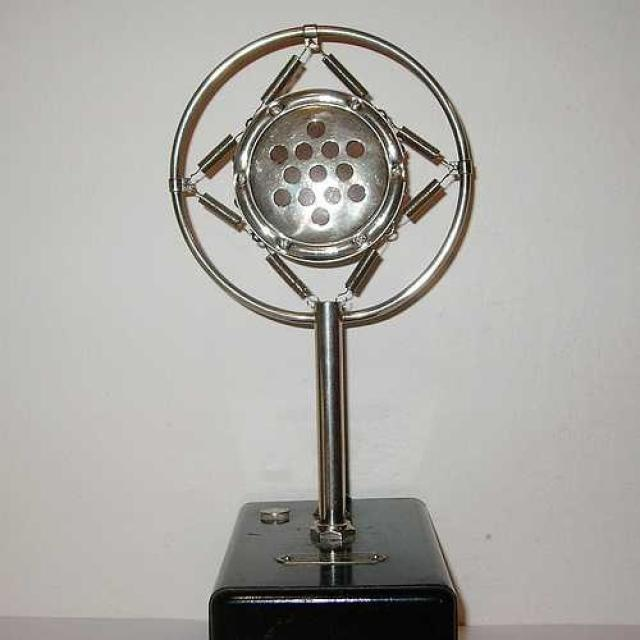microphone: (173, 20, 482, 628)
